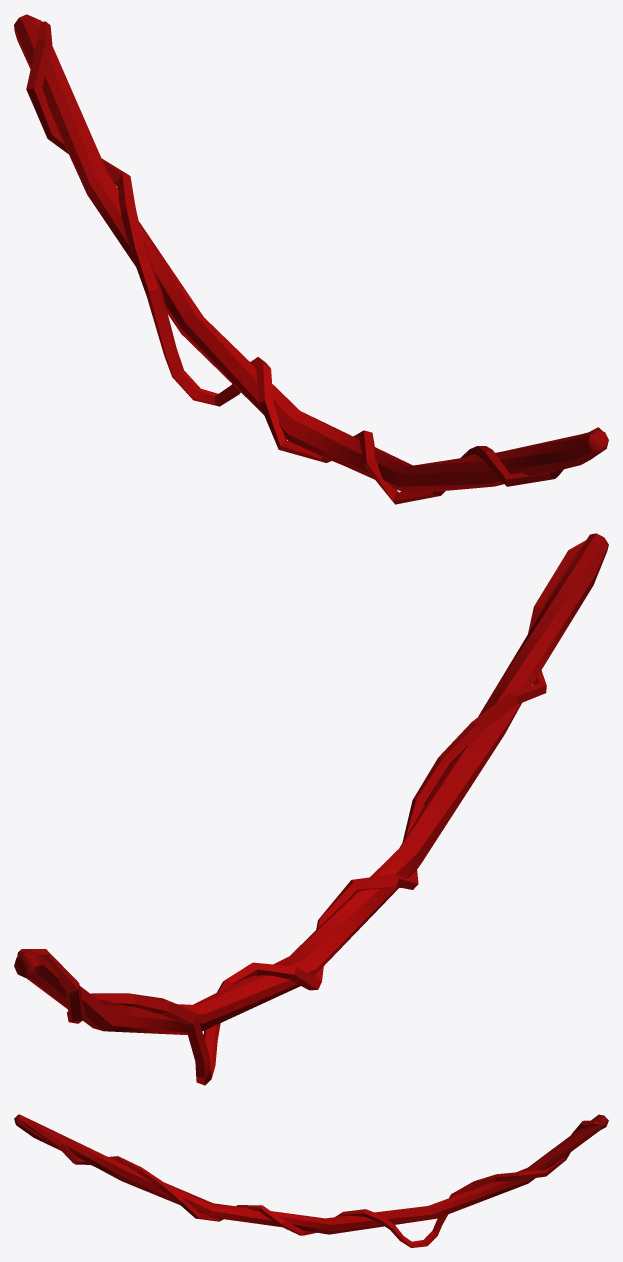
Rendered from SM_Env_Vines_05.glb.
The picture shows the model from 3 angles, top to bottom: view 1: azimuth 30°, elevation 25°; view 2: azimuth 150°, elevation 25°; view 3: azimuth 270°, elevation 25°; orthographic projection. The views are drawn at different scales.
Visible parts, largest first — view 1: SM_Env_Vines_05; view 2: SM_Env_Vines_05; view 3: SM_Env_Vines_05.
Part boxes in pixels (x1=…): SM_Env_Vines_05: x1=14, y1=14, x2=608, y2=504; SM_Env_Vines_05: x1=14, y1=533, x2=608, y2=1085; SM_Env_Vines_05: x1=14, y1=1114, x2=608, y2=1247.
Bounding box in the file's own units: 0.2546 × 1.22 × 4.94.
